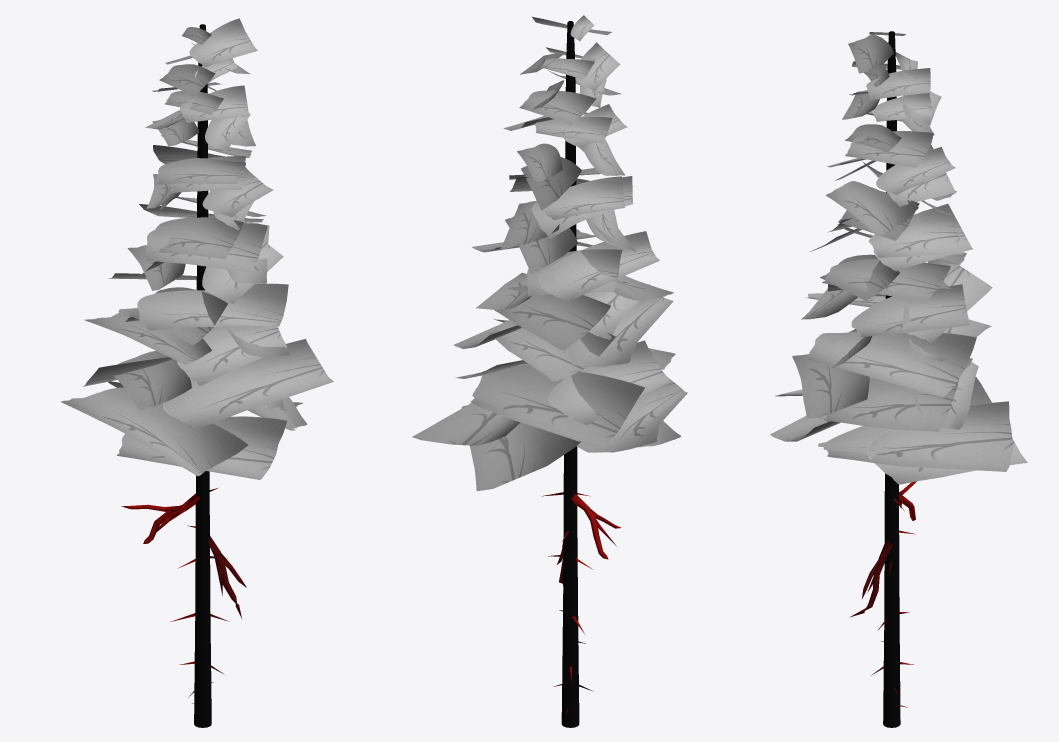
Rendered from M_Pine_5_3.fbx.
The picture shows the model from 3 angles, left to right: view 1: azimuth 30°, elevation 25°; view 2: azimuth 150°, elevation 25°; view 3: azimuth 270°, elevation 25°; orthographic projection.
Visible parts, largest first — view 1: Mobile_Pine_3; view 2: Mobile_Pine_3; view 3: Mobile_Pine_3.
Part boxes in pixels (box(x1,y1,x2,y2)): Mobile_Pine_3: box(61, 18, 333, 727); Mobile_Pine_3: box(412, 15, 687, 727); Mobile_Pine_3: box(770, 31, 1027, 727).
Size of the model in its own units: 1936 by 4601 by 1769.
